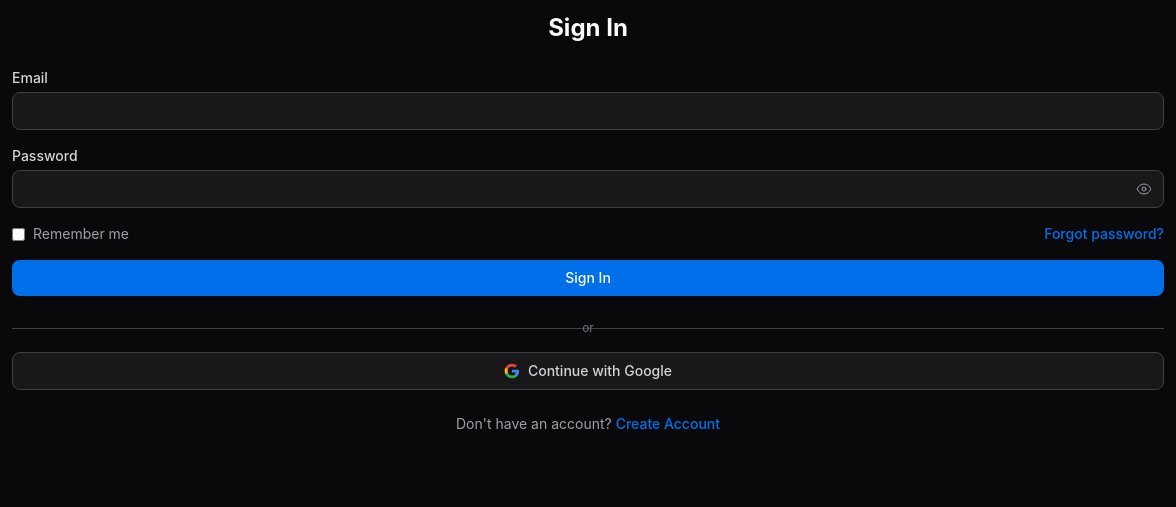
Test: LoginPage › should show server error on ApiError
This screenshot has width=1176, height=507.
Step 1. Type "test@example.com" into the field with id "email" → (588, 111), box [12,92,1164,130]
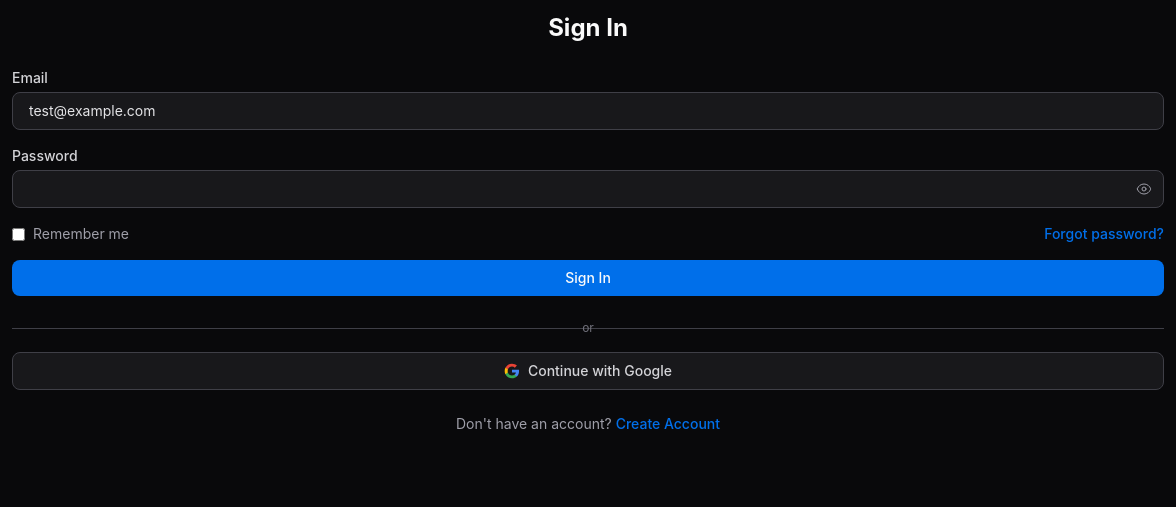
Step 2. Type "wrongpass" into the password field labelled "Password" → (588, 189), box [12,170,1164,208]
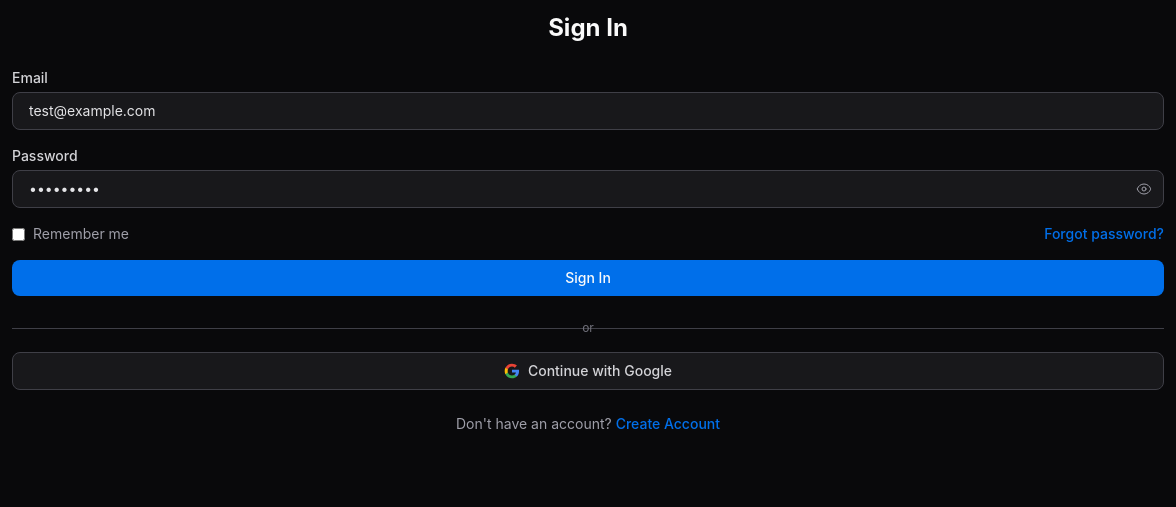
Step 3. Submit the form, box [12,68,1164,296]
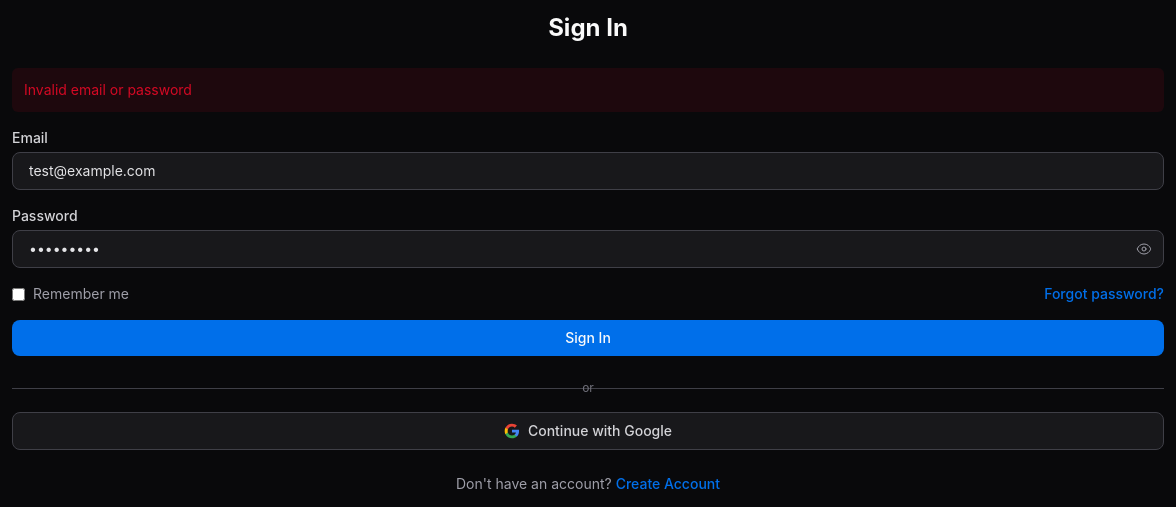
expect the text "Invalid email or password" is shown: met, box [12,68,1164,112]
